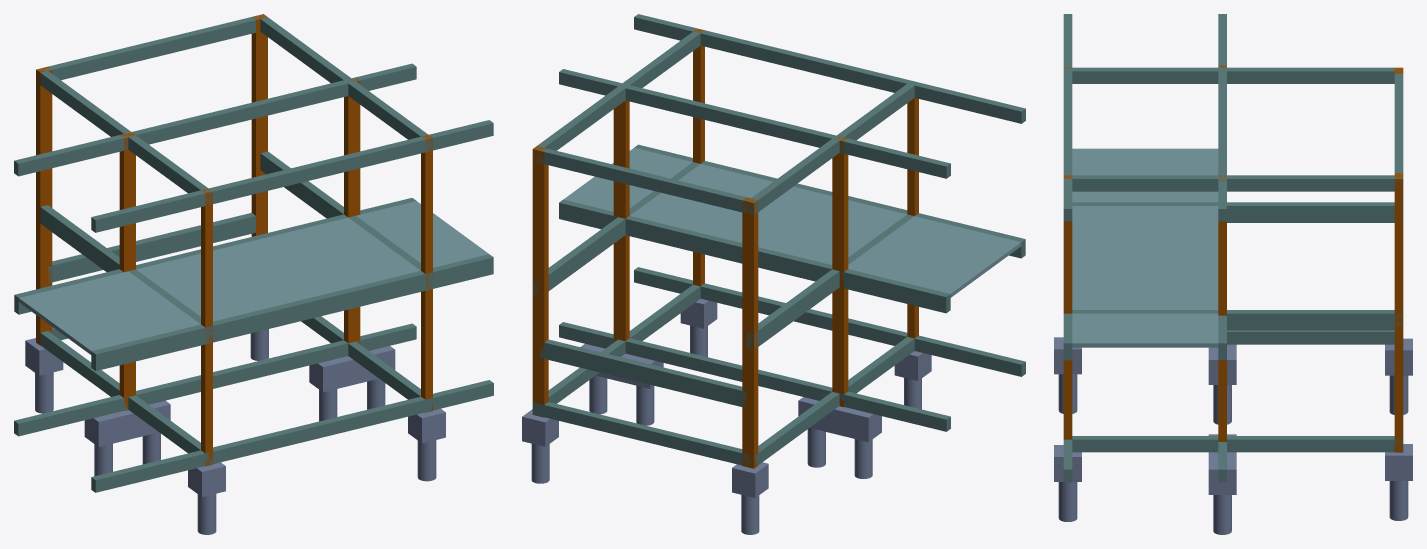
3 views of the same model, side by side, from view 1: azimuth 30°, elevation 25°; view 2: azimuth 150°, elevation 25°; view 3: azimuth 270°, elevation 25° (orthographic). The views are drawn at different scales.
Visible parts, largest first — view 1: VIGA, LAJE_MACICA, PILAR, FUNDACAO; view 2: VIGA, LAJE_MACICA, PILAR, FUNDACAO; view 3: VIGA, LAJE_MACICA, FUNDACAO, PILAR.
Part boxes in pixels (x1=…): VIGA: x1=14, y1=14, x2=493, y2=492; LAJE_MACICA: x1=18, y1=201, x2=488, y2=354; PILAR: x1=36, y1=14, x2=432, y2=466; FUNDACAO: x1=25, y1=329, x2=445, y2=534; VIGA: x1=532, y1=14, x2=1025, y2=466; LAJE_MACICA: x1=563, y1=148, x2=1021, y2=297; PILAR: x1=532, y1=28, x2=918, y2=468; FUNDACAO: x1=522, y1=299, x2=931, y2=534; VIGA: x1=1063, y1=14, x2=1403, y2=482; LAJE_MACICA: x1=1072, y1=148, x2=1218, y2=347; FUNDACAO: x1=1054, y1=337, x2=1412, y2=534; PILAR: x1=1063, y1=65, x2=1403, y2=452.
Bounding box in the file's own units: 9.94 × 8.11 × 7.73.
